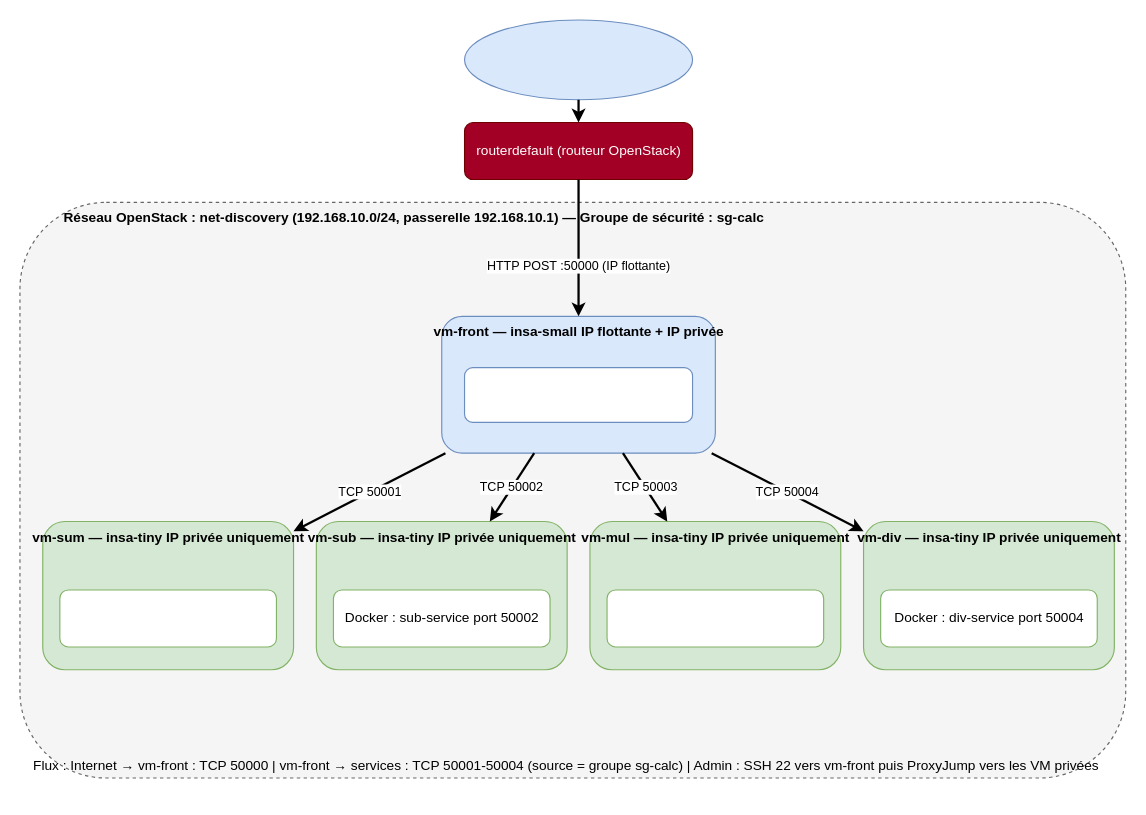
The diagram is 1146 pixels wide and 815 high, and some of its shapes have lost their labels. The centre of each missing label's shape, as x and y in pixels:
"Docker : calc-service 50000 → 80 (frontend)" belongs at (578,394).
"Docker : mul-service port 50003" belongs at (715,618).
"Docker : sum-service port 50001" belongs at (167,618).
"Internet (utilisateur / poste admin)" belongs at (578,59).
